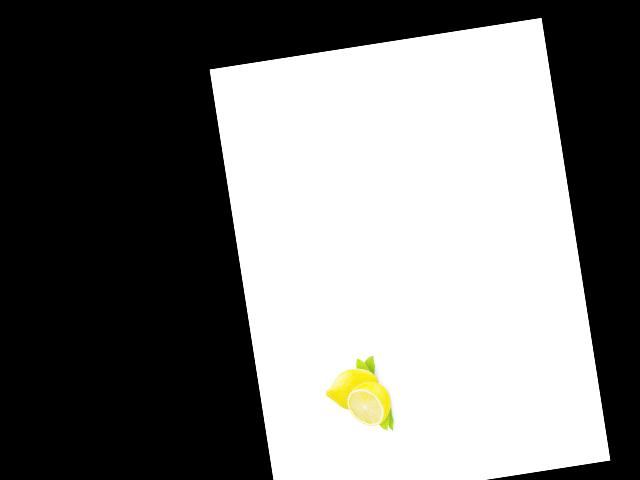lemon: (321, 359, 387, 414)
